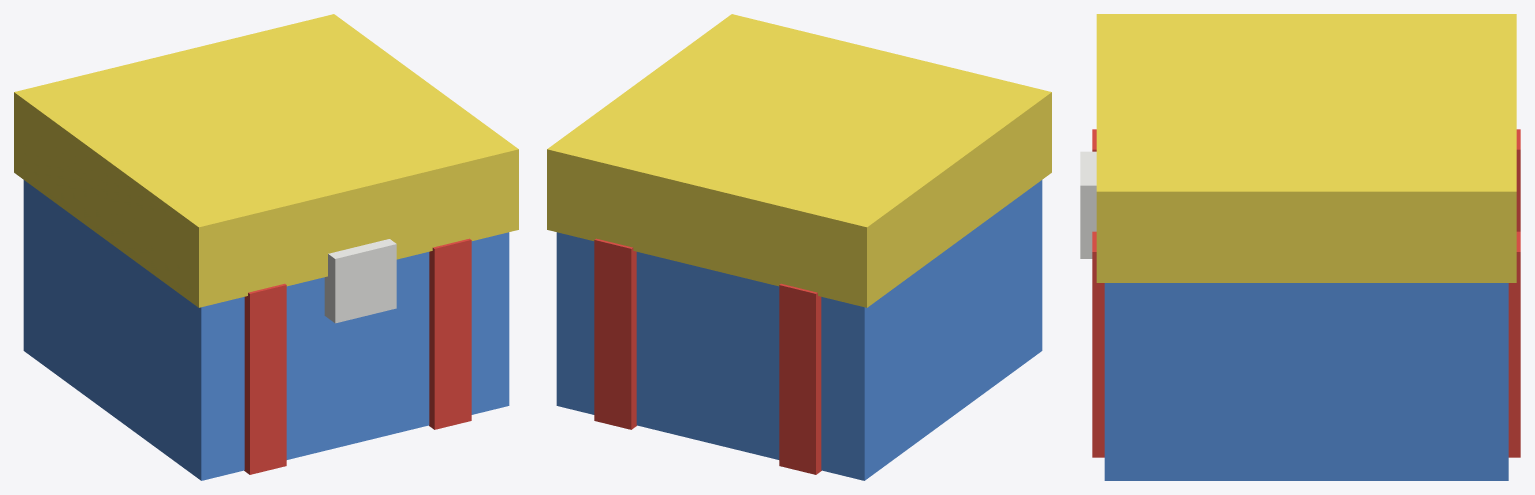
The model's file is ToyChest.fbx.
3 views of the same model, side by side, from view 1: azimuth 30°, elevation 25°; view 2: azimuth 150°, elevation 25°; view 3: azimuth 270°, elevation 25° (orthographic). The views are drawn at different scales.
Parts seen in each view (by area): view 1: ToyChest; view 2: ToyChest; view 3: ToyChest.
Boxes of the visible parts, left/top/right/bottom form: ToyChest: left=14, top=14, right=518, bottom=480; ToyChest: left=547, top=14, right=1051, bottom=480; ToyChest: left=1080, top=14, right=1520, bottom=480.
Bounding box in the file's own units: 1.04 × 0.802 × 1.09.
